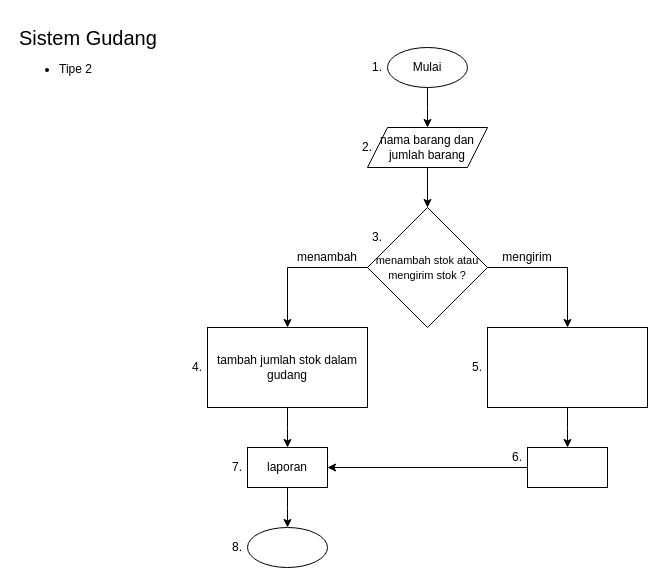
This 665x585 diagram has some shape labels left out. Each missing label, with the centre of its shape:
"kirim barang" goes at [567,467].
"kurangi jumlah stok dalam gudang" goes at [567,367].
"Selesai" goes at [287,547].
